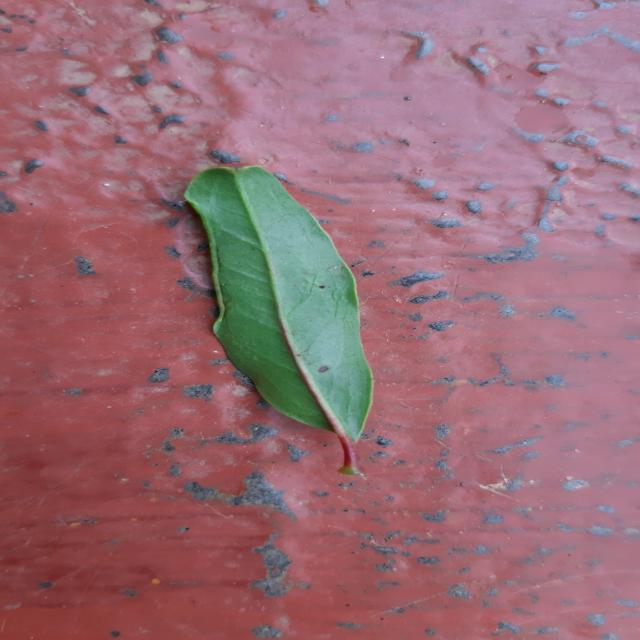pomgranate: (184, 166, 373, 475)
